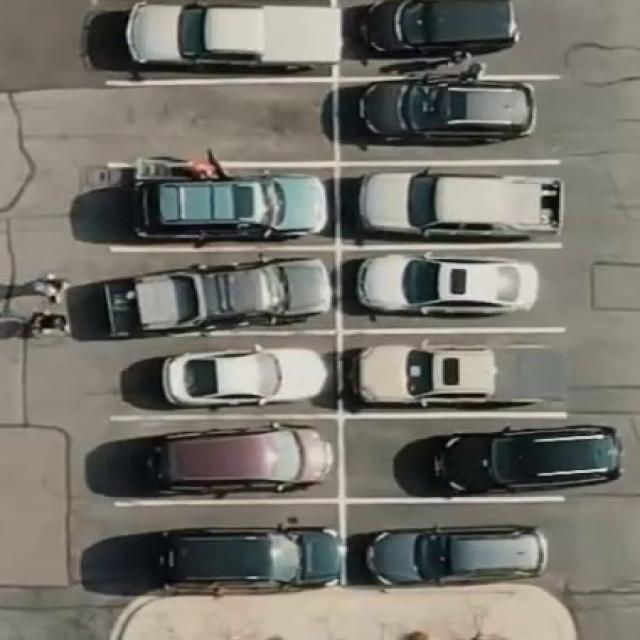empty: (111, 90, 321, 154)
notEmpty: (355, 509, 561, 586), (113, 1, 324, 74), (350, 424, 570, 494), (124, 514, 332, 588), (349, 336, 567, 406), (344, 87, 555, 158), (346, 169, 564, 237), (355, 1, 558, 72), (116, 258, 327, 324), (109, 174, 328, 237), (350, 257, 562, 321), (123, 428, 333, 491), (119, 346, 327, 406)
